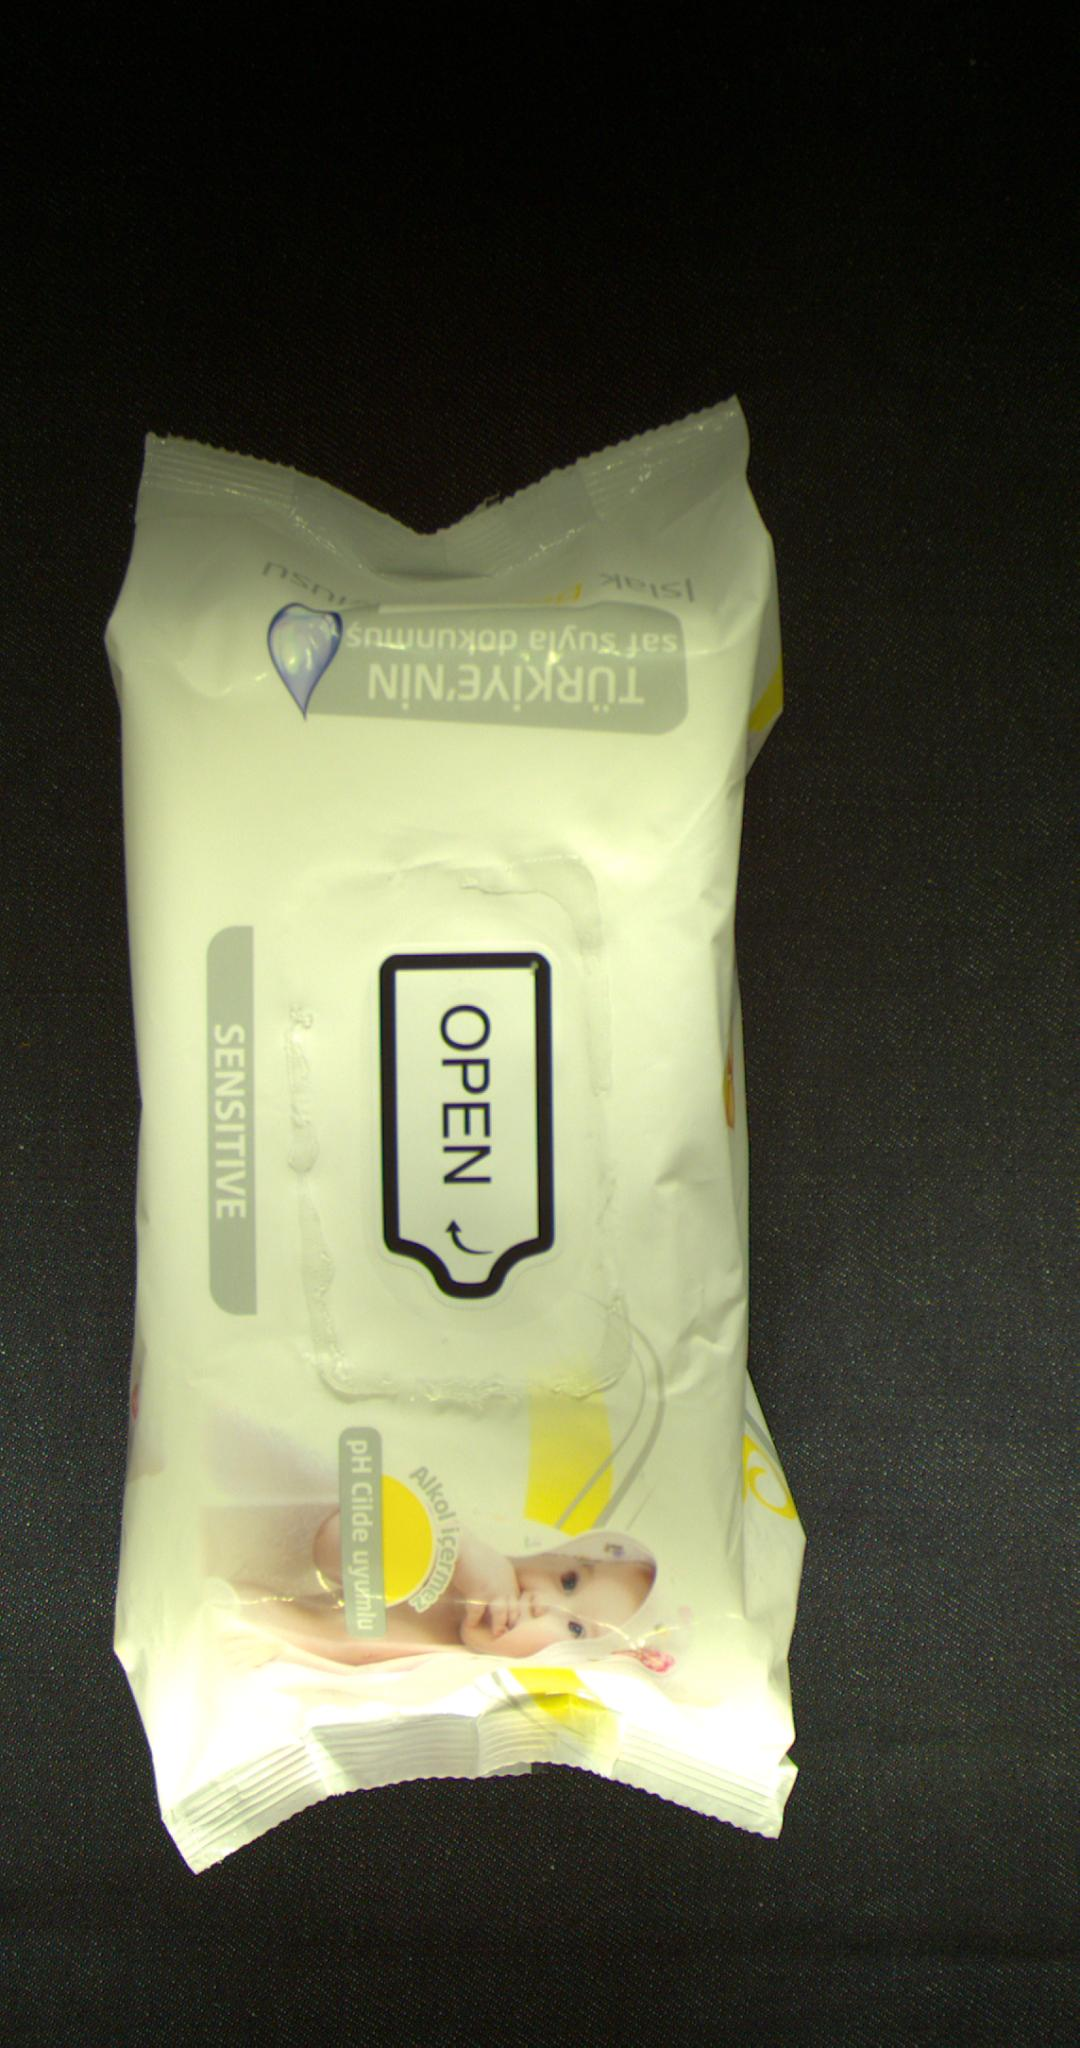hatali-kapak: (301, 860, 630, 1365)
